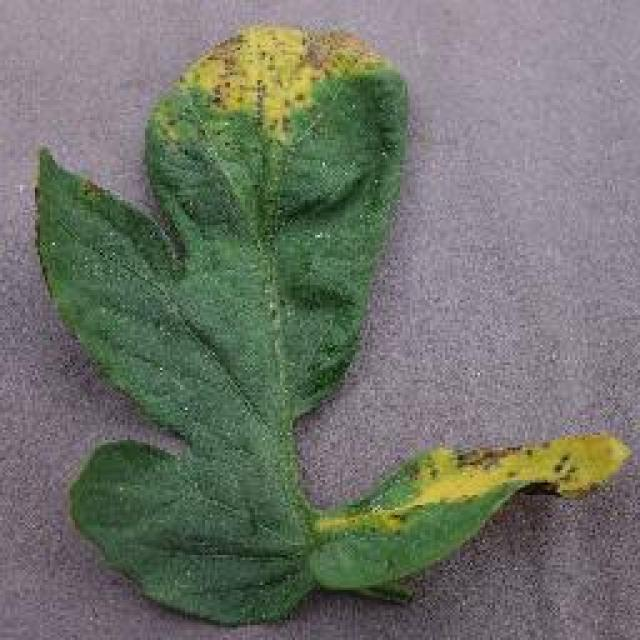Tomato___Bacterial_spot: (35, 20, 635, 630)
